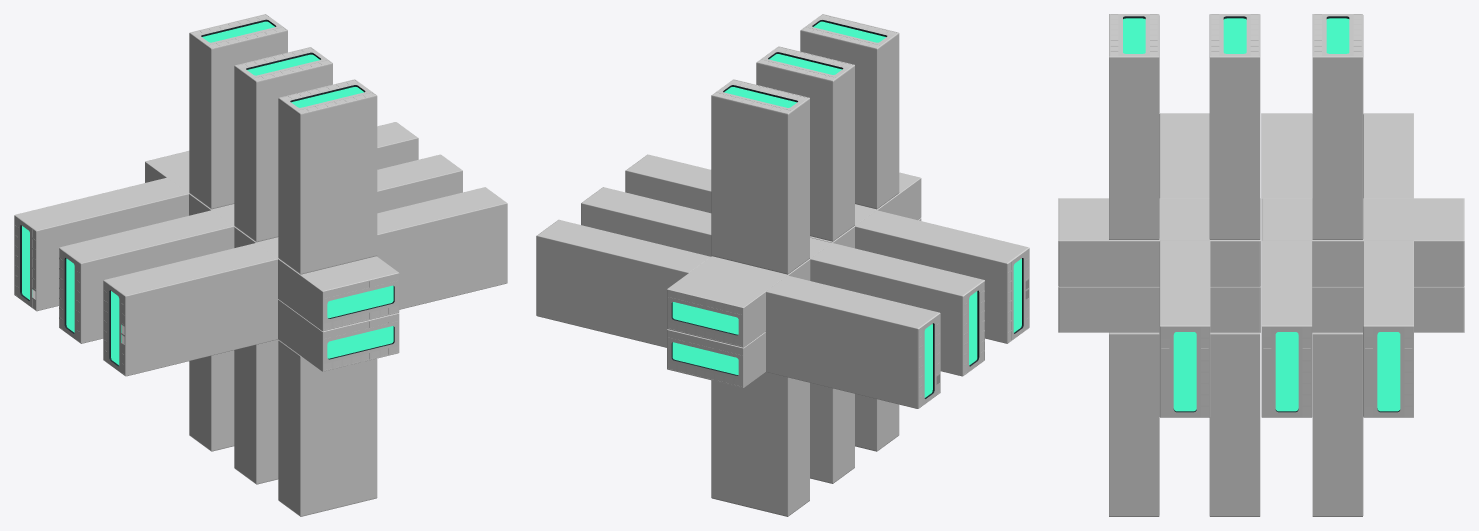
File: Station.glb
3 renders of one model, left to right at view 1: azimuth 30°, elevation 25°; view 2: azimuth 150°, elevation 25°; view 3: azimuth 270°, elevation 25°, orthographic. The views are drawn at different scales.
Visible parts, largest first — view 1: Station; view 2: Station; view 3: Station.
Boxes of the visible parts, x1,y1,x2,y2 form: Station: (14, 14, 507, 516); Station: (536, 14, 1029, 516); Station: (1058, 14, 1464, 516).
Size of the model in its own units: 396 by 399 by 319.
